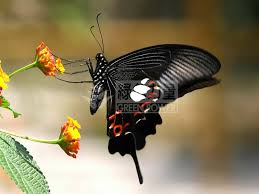butterfly: (79, 27, 224, 180)
flower: (15, 43, 70, 88), (54, 112, 83, 158)
